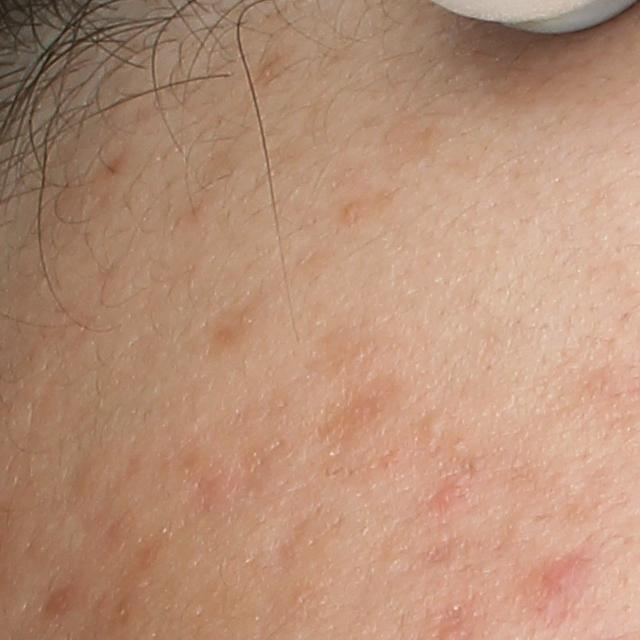comedo: (420, 412, 447, 441)
papule: (428, 484, 467, 511)
